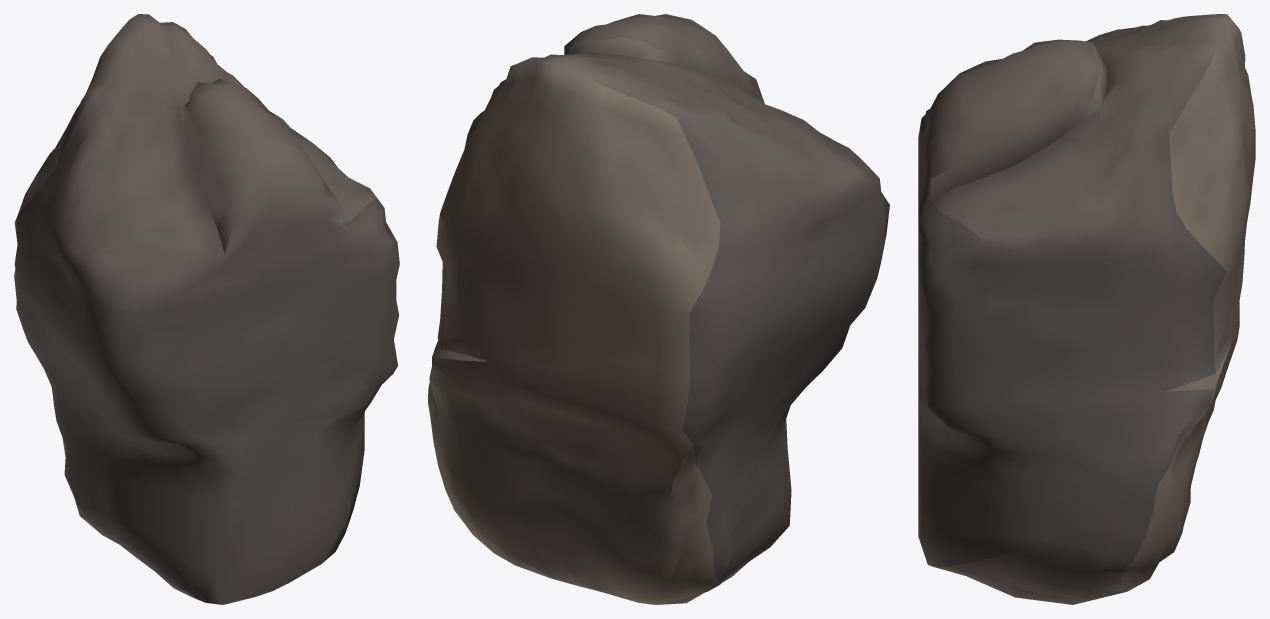
File: RockHuge.008.glb
3 renders of one model, left to right at view 1: azimuth 30°, elevation 25°; view 2: azimuth 150°, elevation 25°; view 3: azimuth 270°, elevation 25°, orthographic. The views are drawn at different scales.
Visible parts, largest first — view 1: RockHuge.008; view 2: RockHuge.008; view 3: RockHuge.008.
Part boxes in pixels (left/top/right/bottom): RockHuge.008: left=14, top=14, right=399, bottom=604; RockHuge.008: left=428, top=14, right=889, bottom=604; RockHuge.008: left=918, top=14, right=1255, bottom=604.
Bounding box in the file's own units: 2255 × 3643 × 1982.
